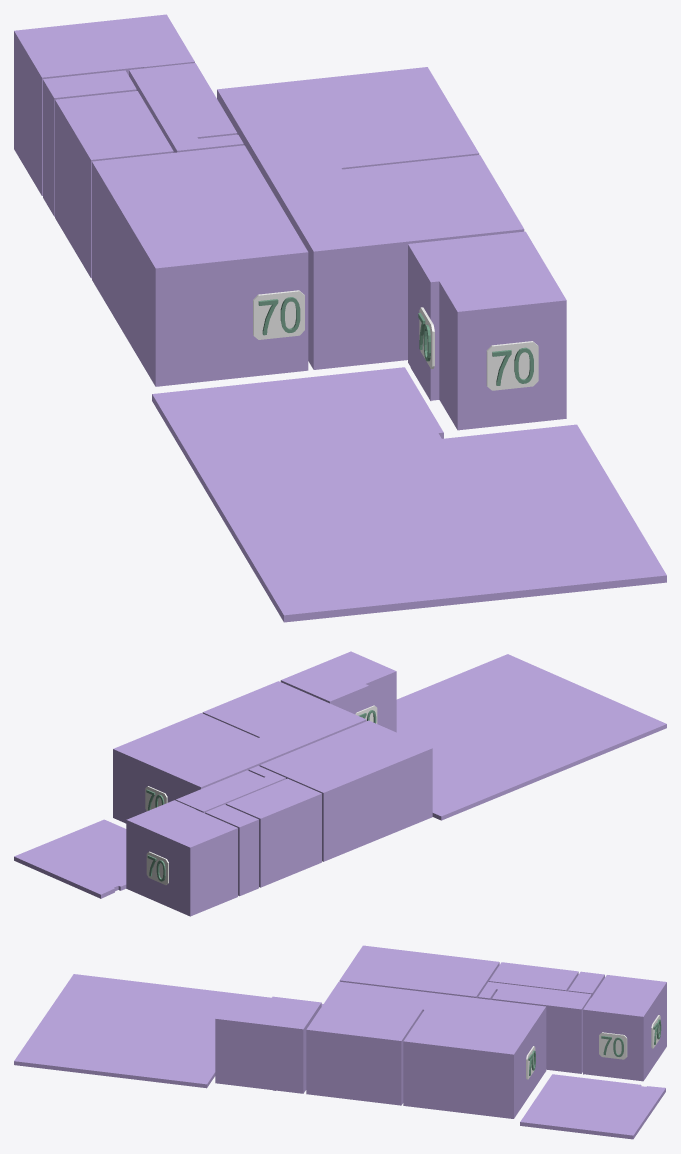
3 views of the same model, one above another, from view 1: azimuth 30°, elevation 25°; view 2: azimuth 150°, elevation 25°; view 3: azimuth 270°, elevation 25° (orthographic). The views are drawn at different scales.
Visible parts, largest first — view 1: g_8, g_1, g_3, g_0, g_4, g_2, g_6, g_5, g_7, g_24, g_27; view 2: g_8, g_1, g_4, g_2, g_6, g_3, g_9, g_0, g_5, g_7, g_12; view 3: g_8, g_4, g_3, g_0, g_2, g_9, g_1, g_5, g_6, g_15, g_7.
Boxes of the visible parts, box(x1,y1,x2,y2) form: g_8: box(152, 367, 666, 622); g_1: box(92, 145, 308, 386); g_3: box(268, 155, 524, 369); g_0: box(408, 231, 566, 430); g_4: box(217, 67, 479, 184); g_2: box(14, 14, 194, 195); g_6: box(55, 91, 173, 278); g_5: box(129, 63, 243, 152); g_7: box(43, 70, 136, 216); g_24: box(486, 341, 538, 390); g_27: box(253, 290, 304, 339); g_8: box(396, 654, 666, 820); g_1: box(259, 720, 432, 861); g_4: box(113, 713, 289, 823); g_2: box(126, 800, 237, 916); g_6: box(226, 778, 321, 887); g_3: box(202, 681, 366, 752); g_9: box(14, 819, 126, 898); g_0: box(280, 651, 396, 732); g_5: box(175, 766, 285, 813); g_7: box(205, 804, 258, 896); g_12: box(146, 851, 168, 885); g_8: box(14, 974, 323, 1088); g_4: box(403, 993, 546, 1118); g_3: box(306, 981, 435, 1105); g_0: box(215, 994, 321, 1093); g_2: box(583, 975, 666, 1081); g_9: box(520, 1074, 665, 1139); g_1: box(339, 945, 499, 998); g_5: box(478, 982, 591, 1073); g_6: box(489, 962, 578, 991); g_15: box(599, 1032, 627, 1059); g_7: box(568, 971, 604, 996).
Size of the model in its own units: 13.35 by 2.65 by 22.79.
